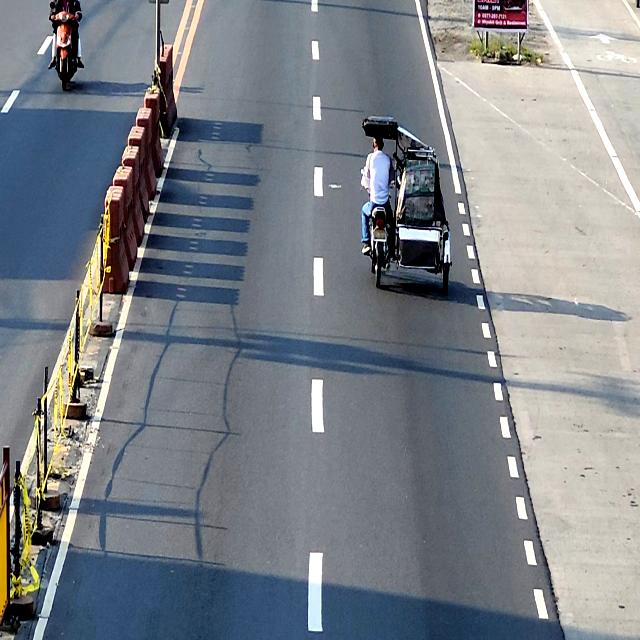License-Plate: (374, 227, 386, 240)
Motorcycle: (50, 1, 81, 91)
Tricycle: (363, 117, 453, 296)
